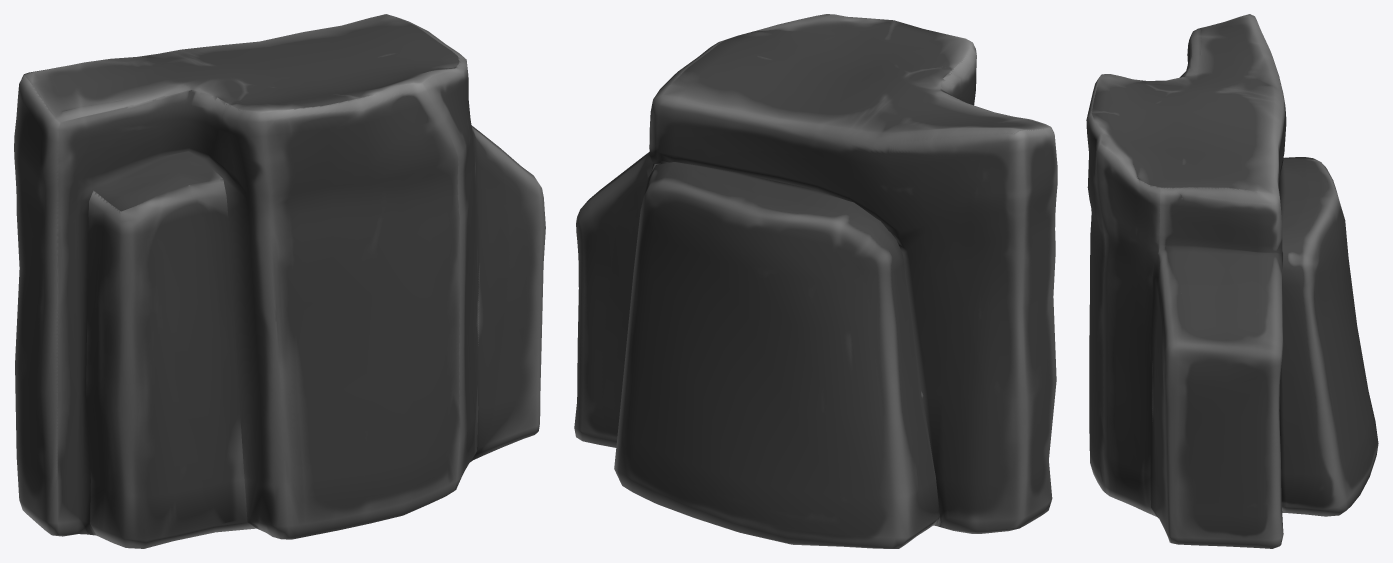
Rendered from CTS_E_CliffCapB.fbx.
The picture shows the model from 3 angles, left to right: view 1: azimuth 30°, elevation 25°; view 2: azimuth 150°, elevation 25°; view 3: azimuth 270°, elevation 25°; orthographic projection. The views are drawn at different scales.
Visible parts, largest first — view 1: CTS_E_CliffCapB; view 2: CTS_E_CliffCapB; view 3: CTS_E_CliffCapB.
Part boxes in pixels (x1=…): CTS_E_CliffCapB: x1=14, y1=14, x2=545, y2=548; CTS_E_CliffCapB: x1=574, y1=14, x2=1057, y2=548; CTS_E_CliffCapB: x1=1086, y1=14, x2=1378, y2=548.
Bounding box in the file's own units: 4231 × 3716 × 2748.
